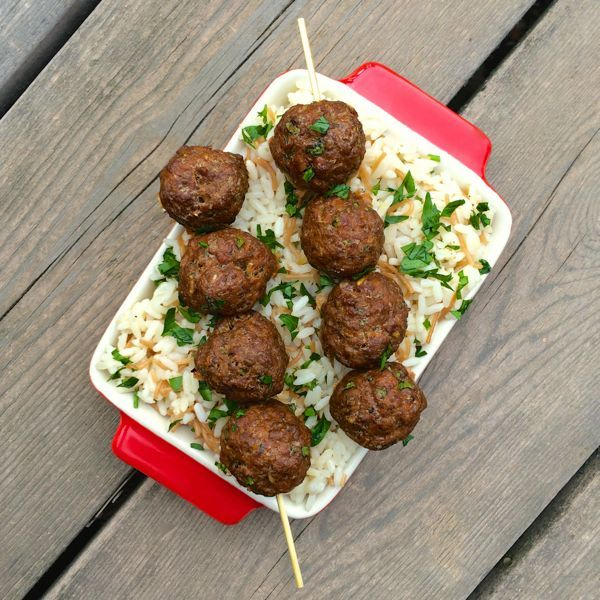meatballs: (168, 152, 310, 481), (281, 122, 427, 434)
